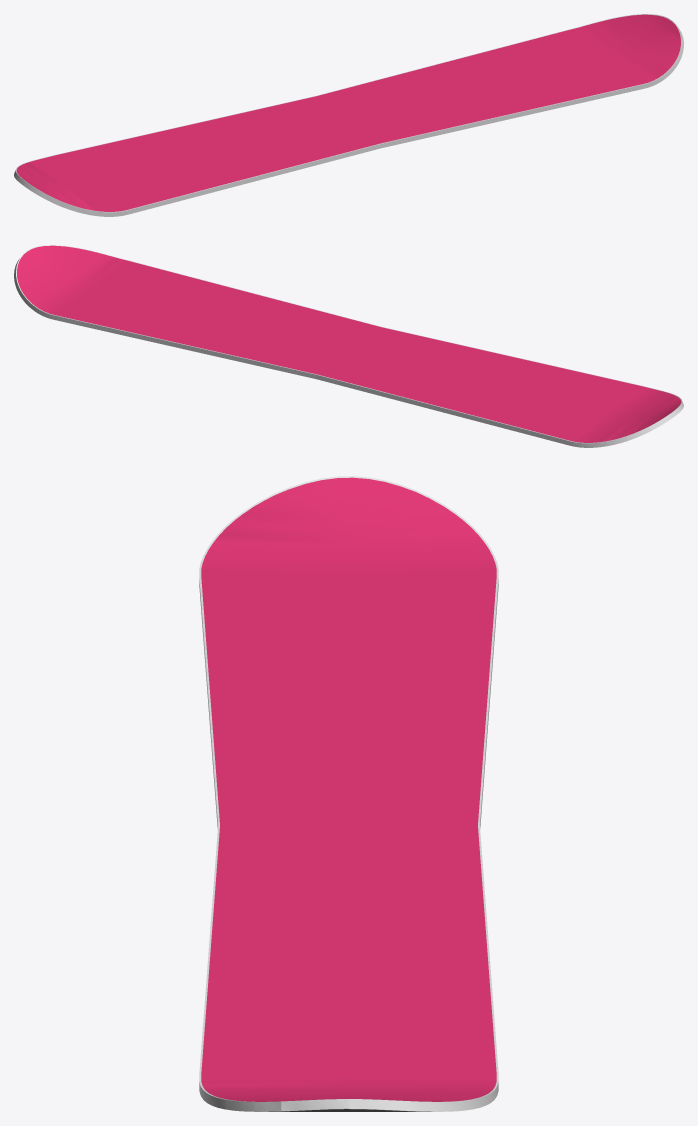
Rendered from board_twin-tip_zero.gltf.
3 renders of one model, top to bottom at view 1: azimuth 30°, elevation 25°; view 2: azimuth 150°, elevation 25°; view 3: azimuth 270°, elevation 25°, orthographic. The views are drawn at different scales.
Parts seen in each view (by area): view 1: board-top, board-edge; view 2: board-top, board-edge; view 3: board-top, board-edge.
Part boxes in pixels (left/top/right/bottom): board-top: left=16, top=14, right=680, bottom=211; board-edge: left=14, top=14, right=683, bottom=216; board-top: left=17, top=245, right=681, bottom=442; board-edge: left=14, top=245, right=683, bottom=447; board-top: left=201, top=477, right=496, bottom=1101; board-edge: left=199, top=476, right=498, bottom=1111.
Bounding box in the file's own units: 1.51 × 0.0561 × 0.3009.
